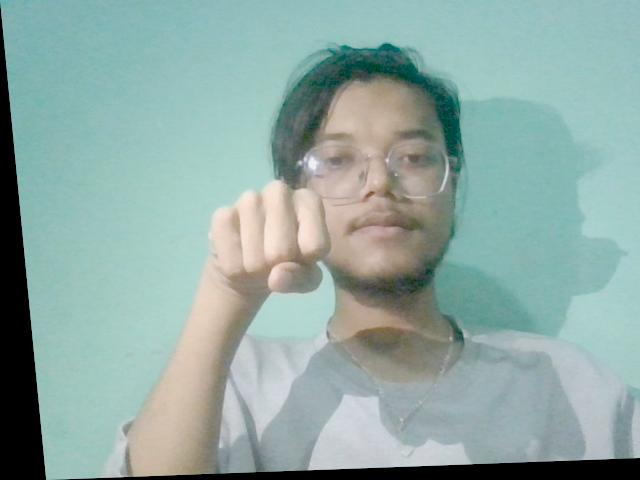Yes: (167, 169, 342, 328)
